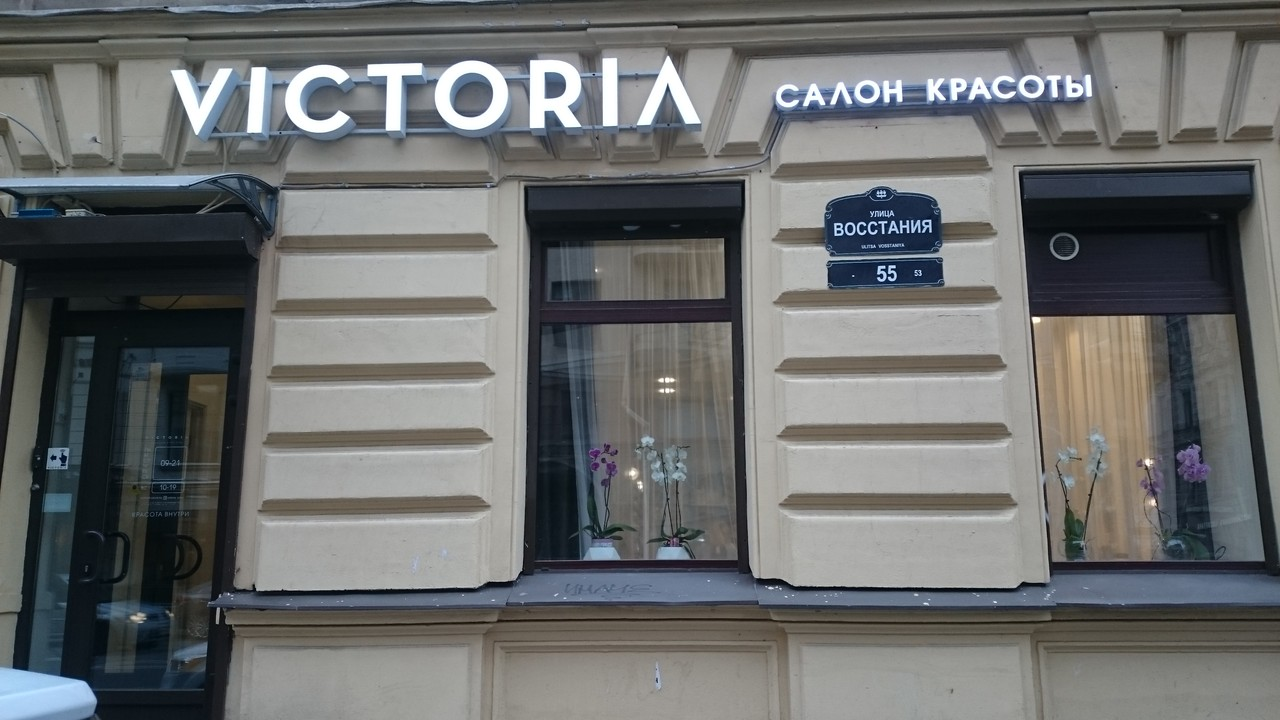door: (100, 326, 231, 719)
signboard: (171, 57, 1093, 141)
window: (1022, 168, 1277, 569), (522, 178, 749, 576)
